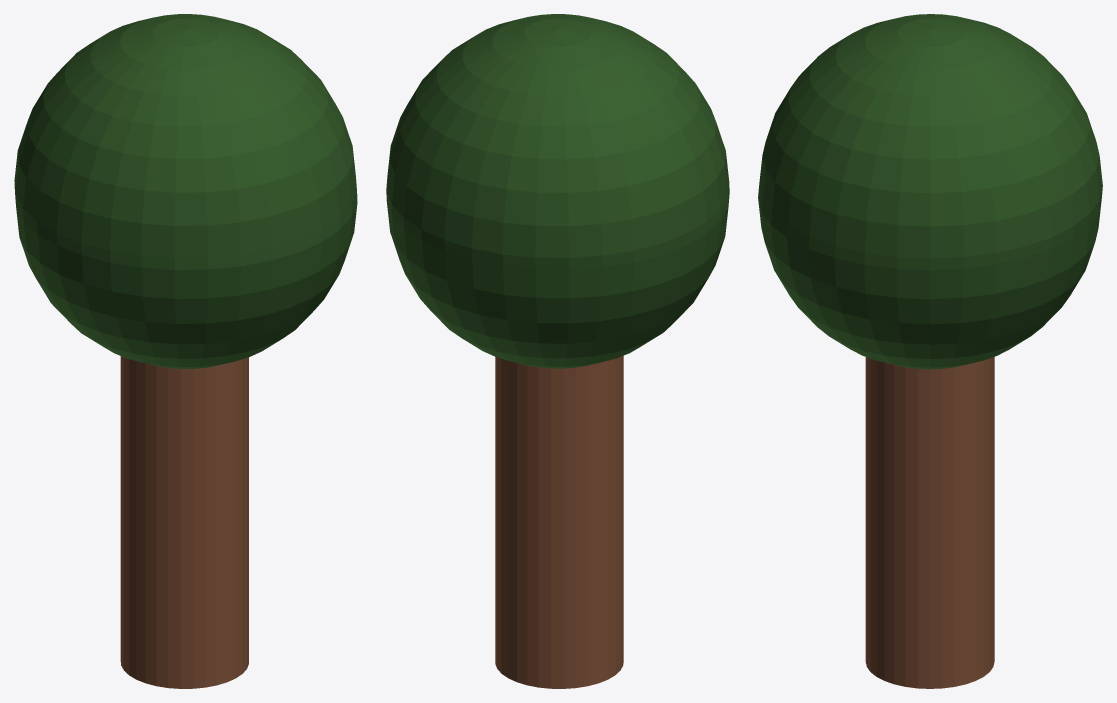
File: tree3.fbx
3 views of the same model, side by side, from view 1: azimuth 30°, elevation 25°; view 2: azimuth 150°, elevation 25°; view 3: azimuth 270°, elevation 25° (orthographic).
Parts seen in each view (by area): view 1: Cylinder; view 2: Cylinder; view 3: Cylinder.
Part boxes in pixels (box(x1,y1,x2,y2)): Cylinder: box(14, 14, 357, 688); Cylinder: box(386, 14, 729, 688); Cylinder: box(758, 14, 1102, 688).
Size of the model in its own units: 160 by 325 by 160.
